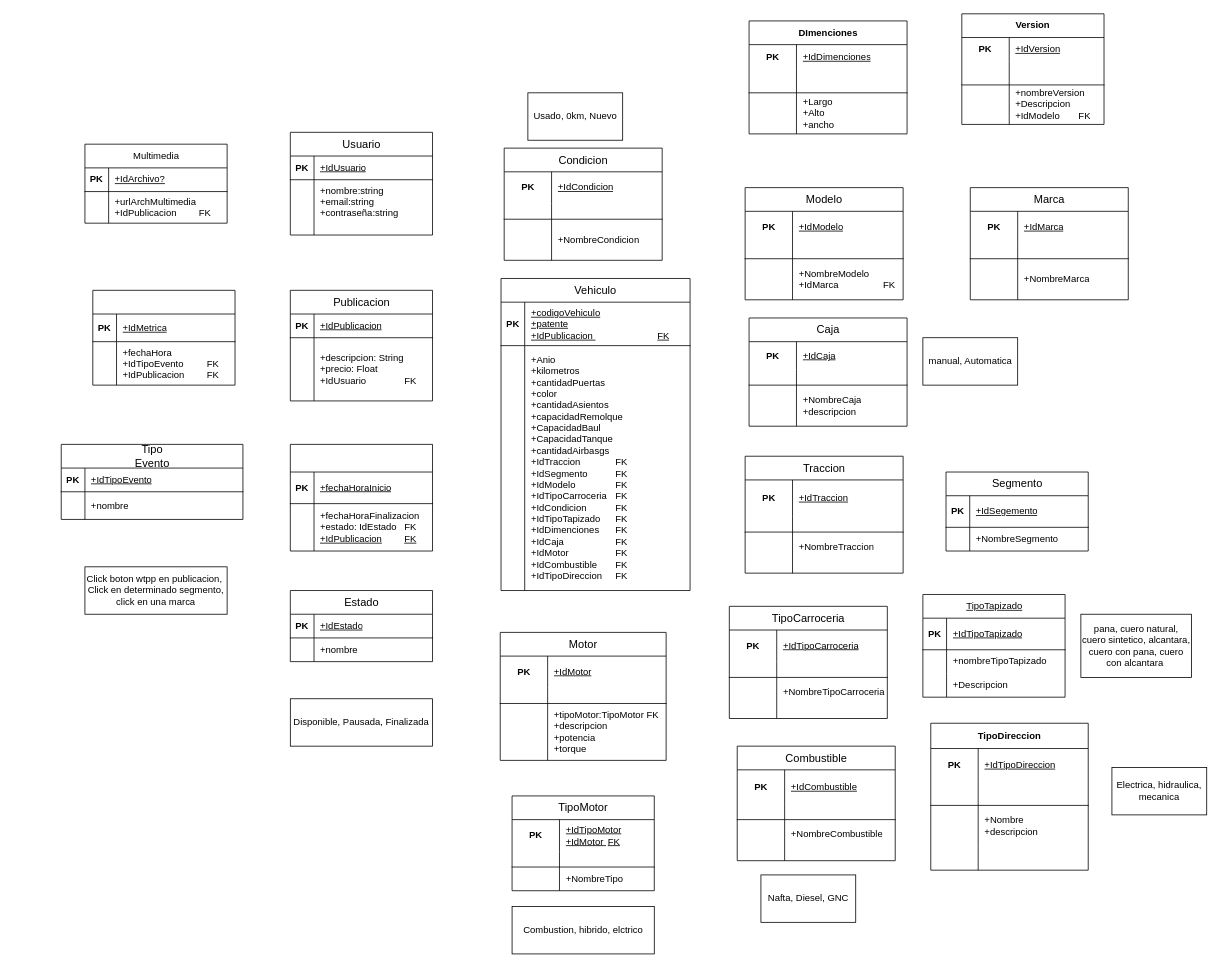
This 1221x968 diagram has some shape labels left out. The box of each missing label's shape, as (x1, y1, x2, y2) in pixels:
Historial Publicacion: (290, 444, 433, 551)
Metricas publicacion: (92, 290, 235, 385)
